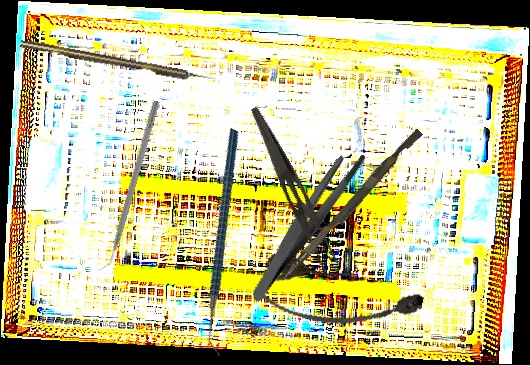Cannula: (254, 251, 427, 343)
Chopper: (139, 128, 313, 357), (95, 97, 160, 275)
Dressing Forceps: (219, 144, 393, 303), (233, 105, 347, 275)
Hook Surgical: (19, 38, 217, 86)
Pusher: (281, 124, 423, 286)
